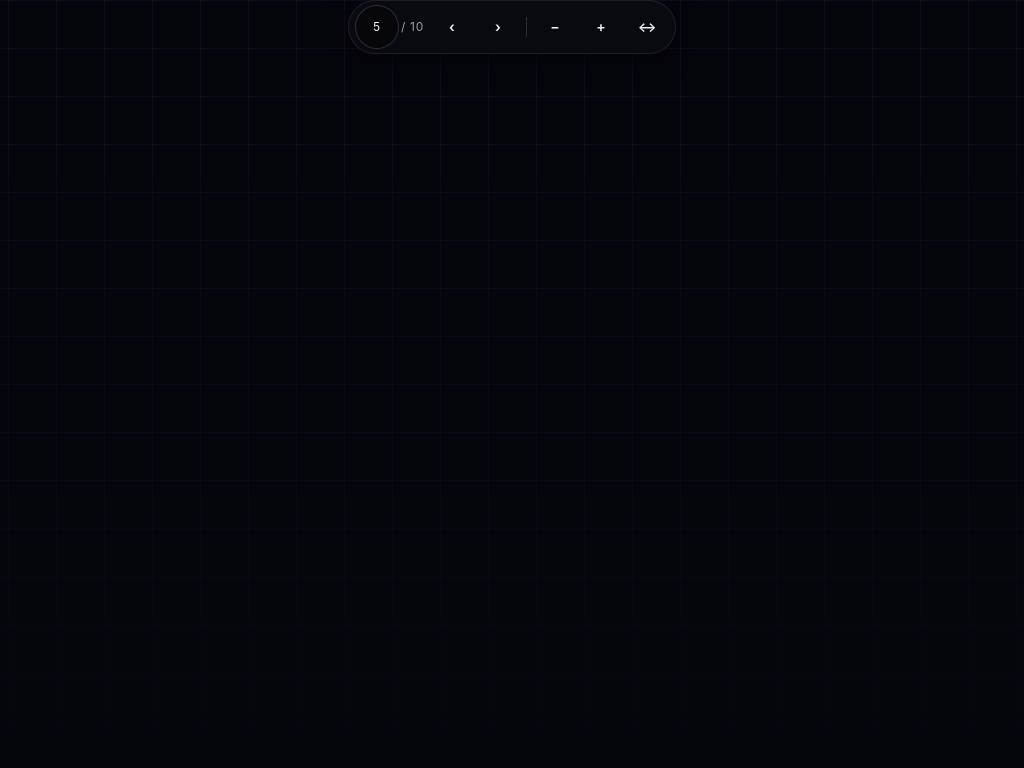
Test case: ReaderControls page box and zoom › drops the draft on blur and shows the current page again
Replace the text in the field with test id "guide-page-input" with "8": coordinates (377, 27) [355, 5, 399, 49]
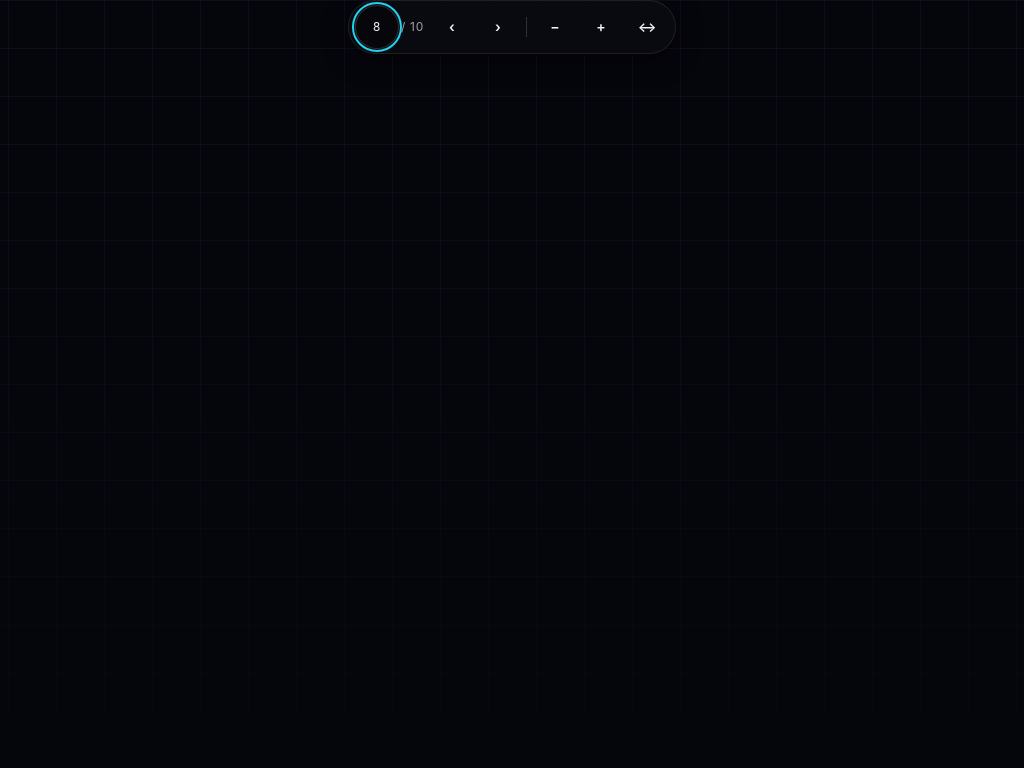
Leave the field with test id "guide-page-input", box [355, 5, 399, 49]
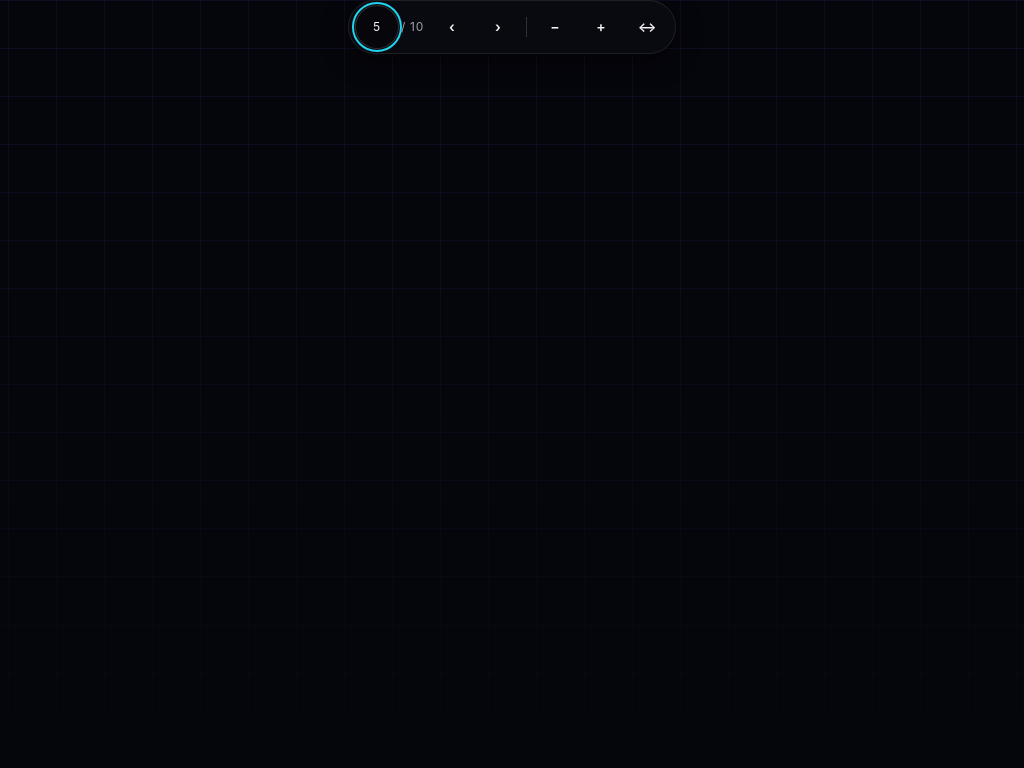
Now the field with test id "guide-page-input" holds "5", box [355, 5, 399, 49]
